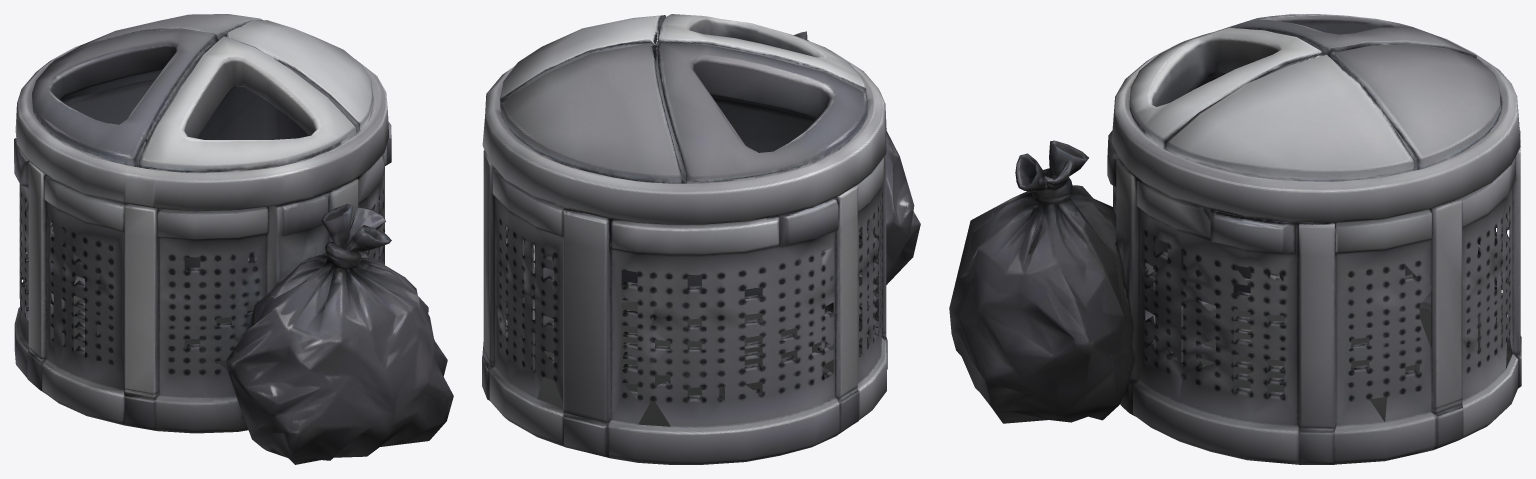
The model's file is decor_3.fbx.
The picture shows the model from 3 angles, left to right: view 1: azimuth 30°, elevation 25°; view 2: azimuth 150°, elevation 25°; view 3: azimuth 270°, elevation 25°; orthographic projection. The views are drawn at different scales.
Parts seen in each view (by area): view 1: decor_3; view 2: decor_3; view 3: decor_3.
Part boxes in pixels (x1,y1,x2,y2): decor_3: (14, 14, 453, 464); decor_3: (482, 14, 920, 464); decor_3: (949, 14, 1521, 464).
Size of the model in its own units: 0.9781 by 0.903 by 1.37.
